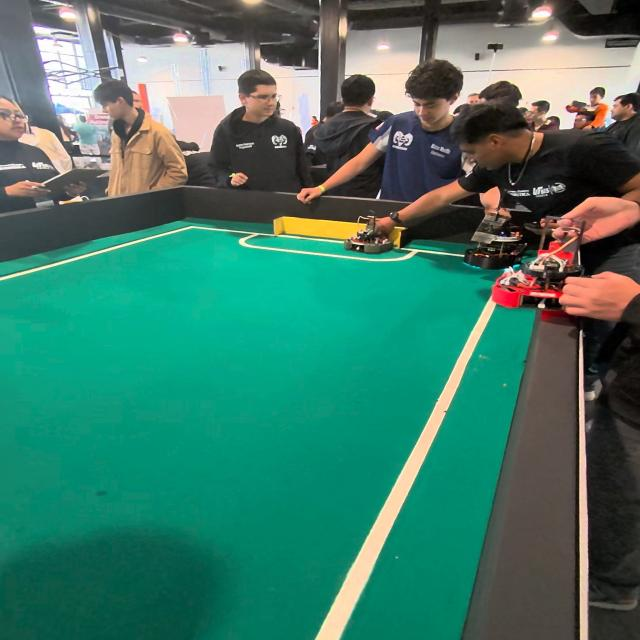Robot: (461, 201, 527, 271), (505, 252, 574, 310), (343, 211, 393, 255)
